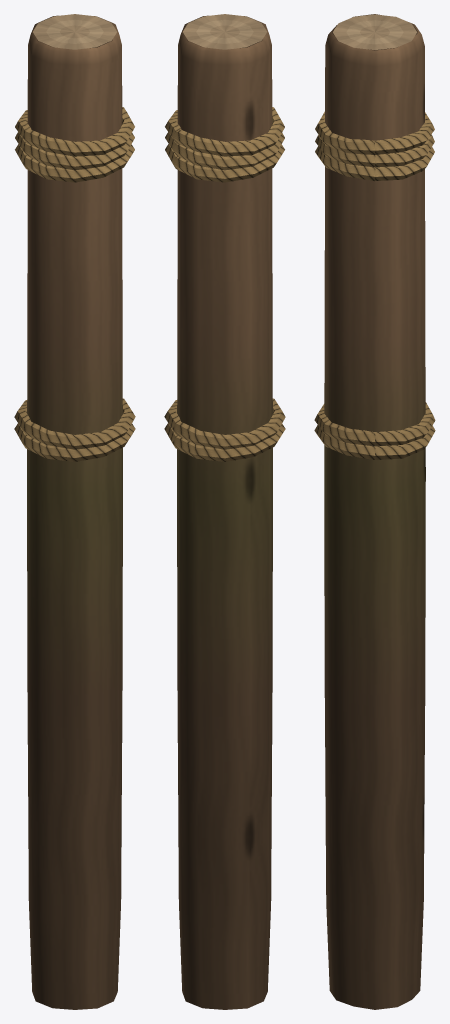
File: dock-pile-rope.glb
3 views of the same model, side by side, from view 1: azimuth 30°, elevation 25°; view 2: azimuth 210°, elevation 25°; view 3: azimuth 270°, elevation 25° (orthographic).
Parts seen in each view (by area): view 1: dock-pile-rope; view 2: dock-pile-rope; view 3: dock-pile-rope.
Boxes of the visible parts, box(x1,y1,x2,y2) form: dock-pile-rope: box(14, 14, 135, 1009); dock-pile-rope: box(164, 14, 285, 1009); dock-pile-rope: box(314, 14, 435, 1009).
Bounding box in the file's own units: 0.4928 × 4.3 × 0.4927.
2 materials, 2 textured.
